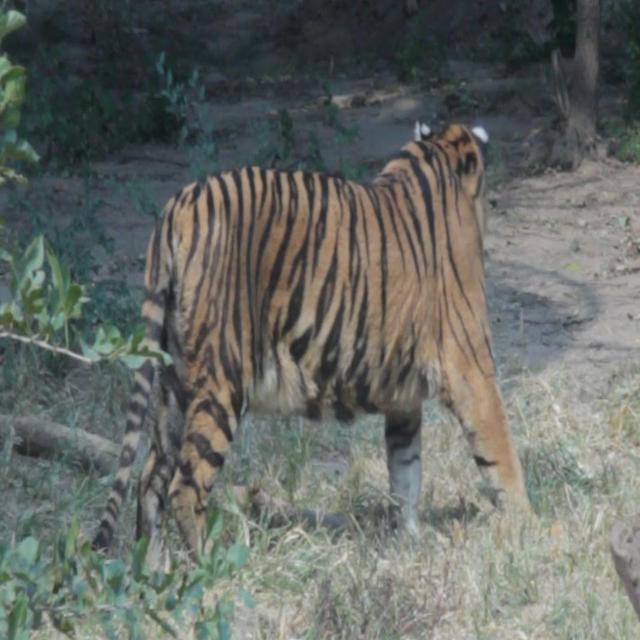tiger: (87, 117, 544, 577)
